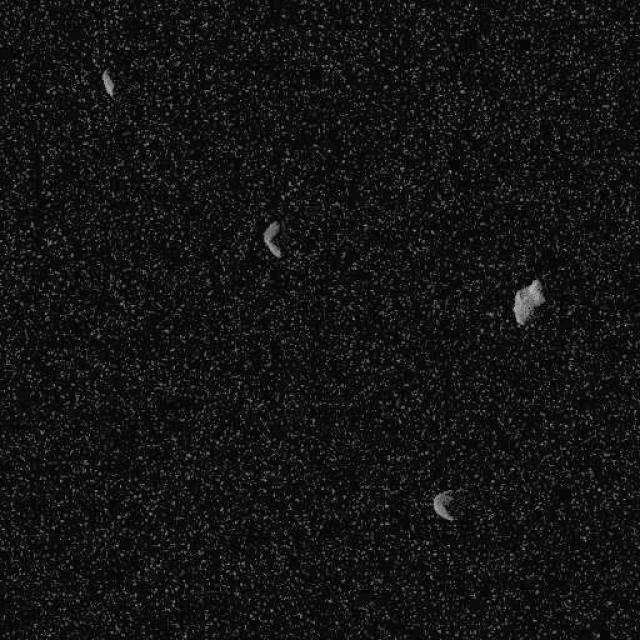D2: (512, 276, 546, 326), (262, 219, 282, 259), (431, 489, 455, 521), (100, 66, 115, 98)
